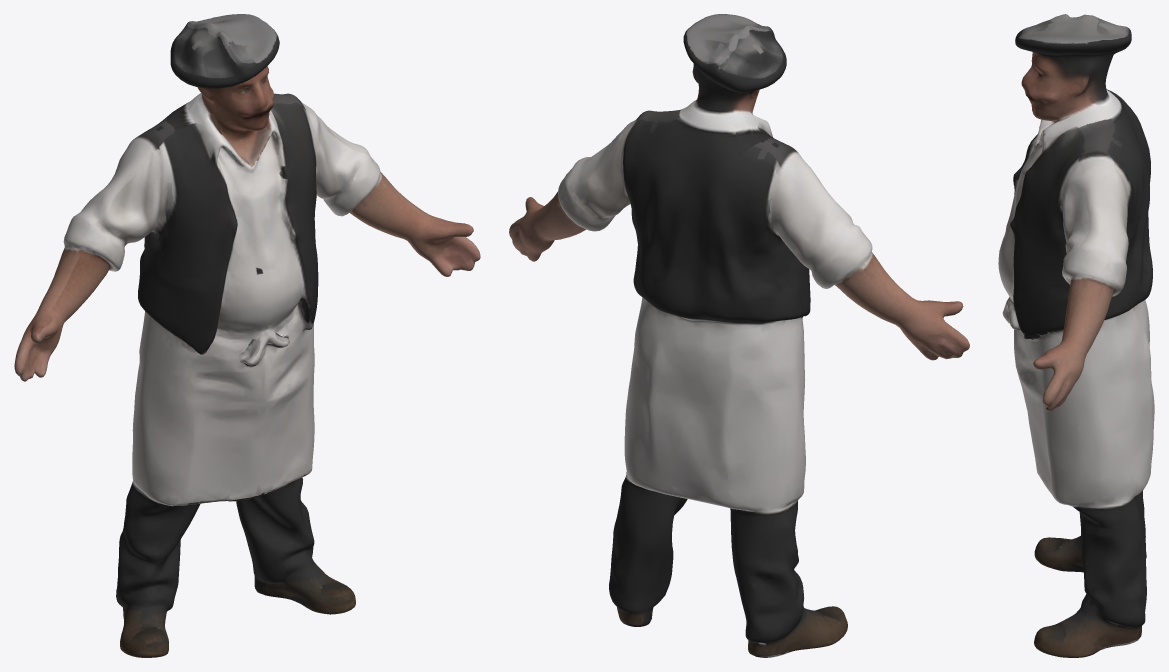
File: pulpero_rig.glb
3 views of the same model, side by side, from view 1: azimuth 30°, elevation 25°; view 2: azimuth 150°, elevation 25°; view 3: azimuth 270°, elevation 25° (orthographic). The views are drawn at different scales.
Visible parts, largest first — view 1: temp_mesh.ply; view 2: temp_mesh.ply; view 3: temp_mesh.ply.
Boxes of the visible parts, x1=… form: temp_mesh.ply: x1=14, y1=14, x2=480, y2=657; temp_mesh.ply: x1=509, y1=14, x2=969, y2=657; temp_mesh.ply: x1=998, y1=14, x2=1154, y2=657.
Bounding box in the file's own units: 1.39 × 1.72 × 0.4157.
1 material, 1 textured.
